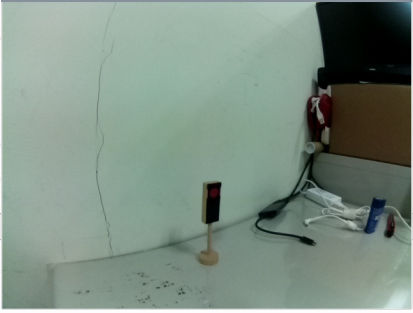Red: (199, 178, 223, 226)
